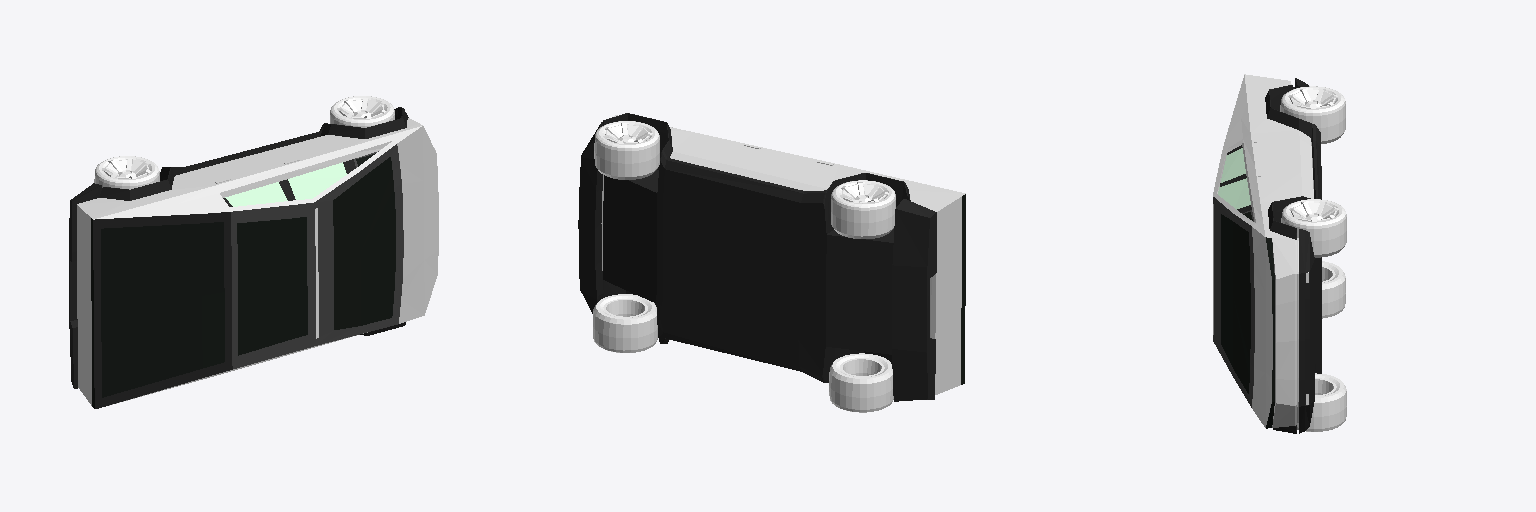
File: car.obj
The picture shows the model from 3 angles: view 1: azimuth 30°, elevation 25°; view 2: azimuth 150°, elevation 25°; view 3: azimuth 270°, elevation 25°; orthographic projection.
Visible parts, largest first — view 1: body_interior.001, tires_tires.001, crack; view 2: body_interior.001, tires_tires.001; view 3: body_interior.001, tires_tires.001, crack.
Boxes of the visible parts, <box> form: body_interior.001: <box>69,107,438,408</box>; tires_tires.001: <box>94,96,394,189</box>; crack: <box>225,162,346,206</box>; body_interior.001: <box>578,113,965,401</box>; tires_tires.001: <box>593,121,895,412</box>; body_interior.001: <box>1213,74,1321,433</box>; tires_tires.001: <box>1280,86,1346,431</box>; crack: <box>1218,148,1250,209</box>.
Size of the model in its own units: 3.84 by 2.16 by 1.24.